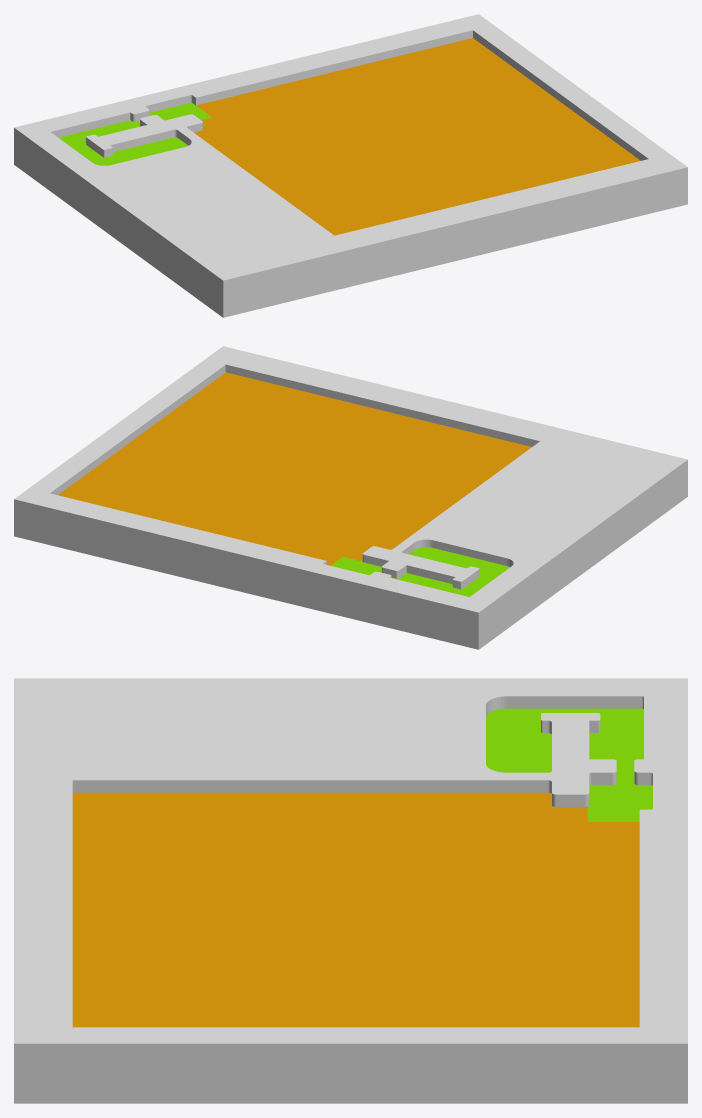
The model's file is plaza3.fbx.
The picture shows the model from 3 angles, top to bottom: view 1: azimuth 30°, elevation 25°; view 2: azimuth 150°, elevation 25°; view 3: azimuth 270°, elevation 25°; orthographic projection. The views are drawn at different scales.
Parts seen in each view (by area): view 1: Plaza, Cube; view 2: Plaza, Cube; view 3: Plaza, Cube.
Boxes of the visible parts, box(x1,y1,x2,y2) form: Plaza: box(14, 14, 687, 317); Cube: box(59, 38, 640, 235); Plaza: box(14, 346, 687, 649); Cube: box(58, 372, 531, 596); Plaza: box(14, 678, 687, 1103); Cube: box(72, 708, 652, 1027).
Size of the model in its own units: 46.01 by 35.87 by 3.52.
